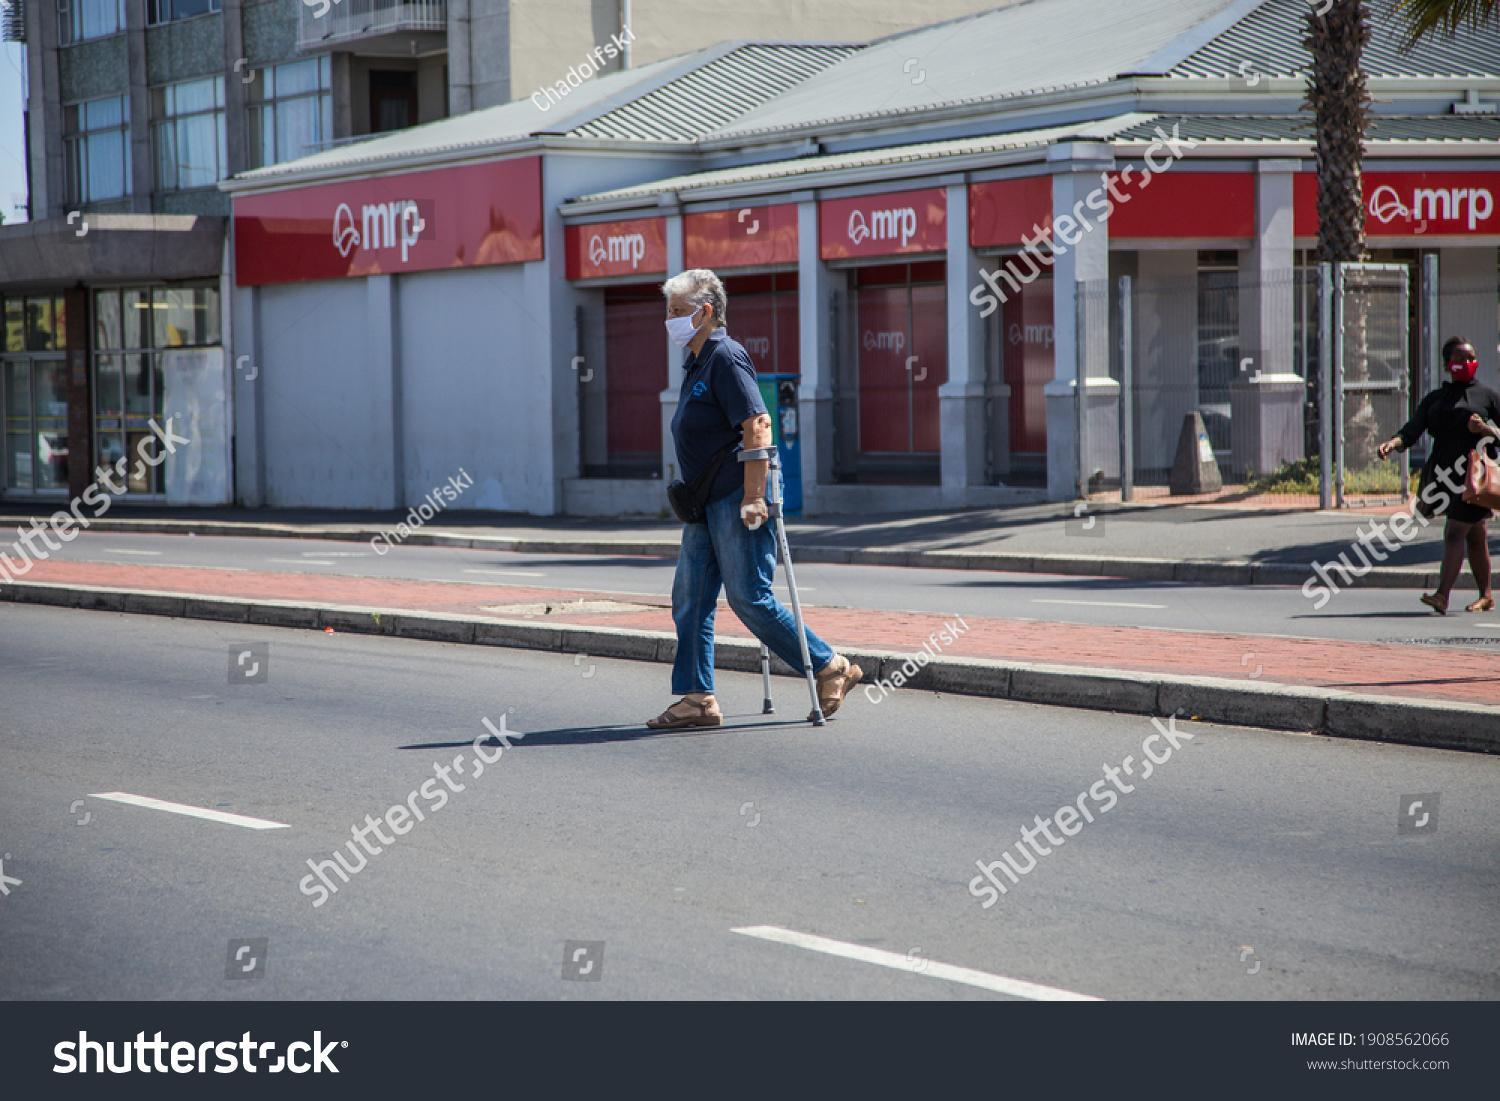crutches: (648, 269, 862, 732)
